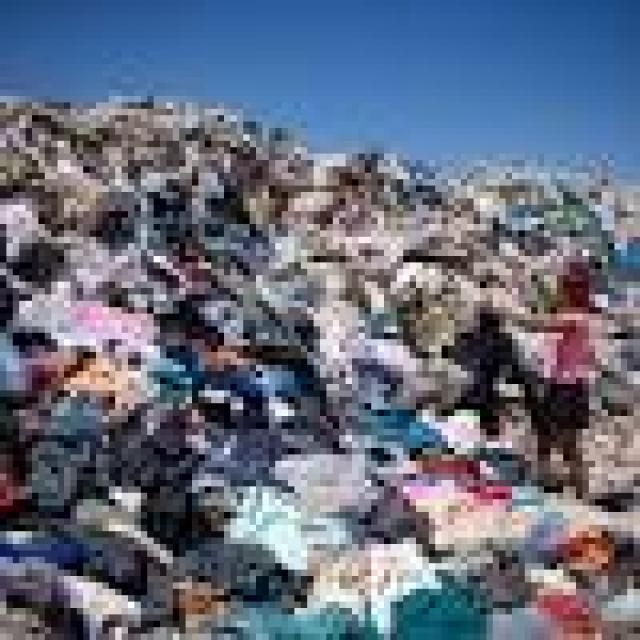Clothes -Biodegradable-: (0, 34, 640, 640)
